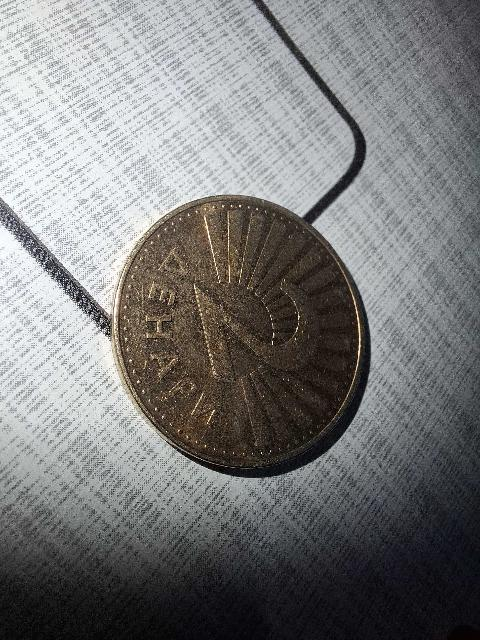coin: (113, 196, 364, 467)
